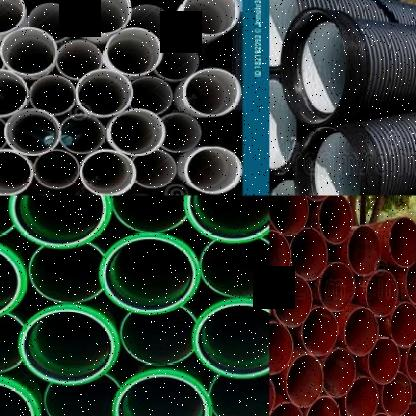pipe: (18, 304, 120, 386), (279, 8, 348, 125), (100, 235, 198, 314), (192, 298, 270, 378), (9, 196, 112, 248), (293, 126, 361, 195), (29, 243, 106, 303), (120, 307, 198, 366), (112, 370, 211, 416), (183, 195, 269, 244), (200, 238, 269, 298), (43, 375, 121, 416), (182, 67, 241, 116), (106, 108, 166, 156), (106, 27, 164, 76), (184, 146, 242, 195), (112, 195, 188, 232), (0, 27, 57, 76), (4, 108, 62, 156), (208, 371, 269, 416), (76, 69, 132, 118), (79, 148, 136, 196), (270, 75, 298, 171), (0, 240, 28, 323), (274, 274, 313, 328), (182, 0, 239, 36), (286, 353, 324, 407), (74, 0, 132, 35), (290, 228, 328, 281), (270, 0, 298, 71), (56, 39, 102, 81), (301, 306, 339, 356), (34, 149, 80, 190), (29, 75, 76, 115), (61, 113, 105, 155), (155, 41, 199, 82), (132, 149, 177, 189), (319, 262, 355, 312), (28, 3, 74, 42), (344, 307, 379, 357), (125, 4, 171, 42), (347, 225, 381, 276), (317, 196, 353, 244), (322, 348, 356, 398), (161, 112, 202, 153), (0, 375, 41, 416), (0, 312, 27, 374), (130, 77, 173, 114), (269, 196, 309, 235), (0, 148, 33, 195), (366, 270, 398, 318), (368, 337, 400, 385), (380, 371, 412, 416), (388, 217, 416, 268), (344, 376, 378, 416), (0, 68, 28, 116), (270, 322, 294, 374), (390, 301, 416, 348), (270, 230, 292, 283), (0, 0, 25, 35), (305, 395, 341, 416), (0, 196, 15, 239), (405, 257, 416, 306), (405, 337, 416, 383), (269, 402, 305, 416), (0, 113, 7, 153), (397, 402, 416, 416), (363, 412, 395, 416)
